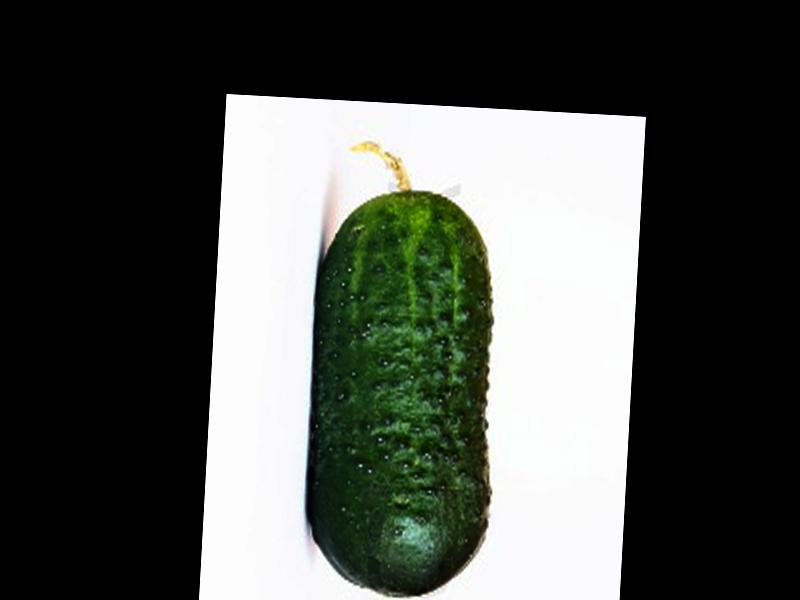Cucumber: (299, 138, 512, 599)
